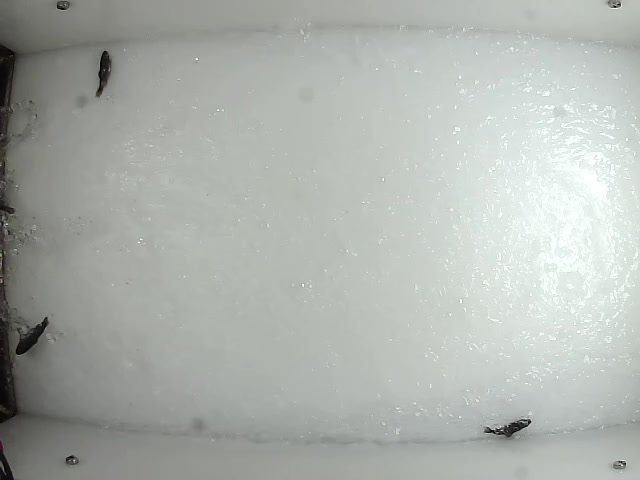fish: (13, 313, 51, 357), (482, 418, 534, 439), (93, 49, 113, 100)
